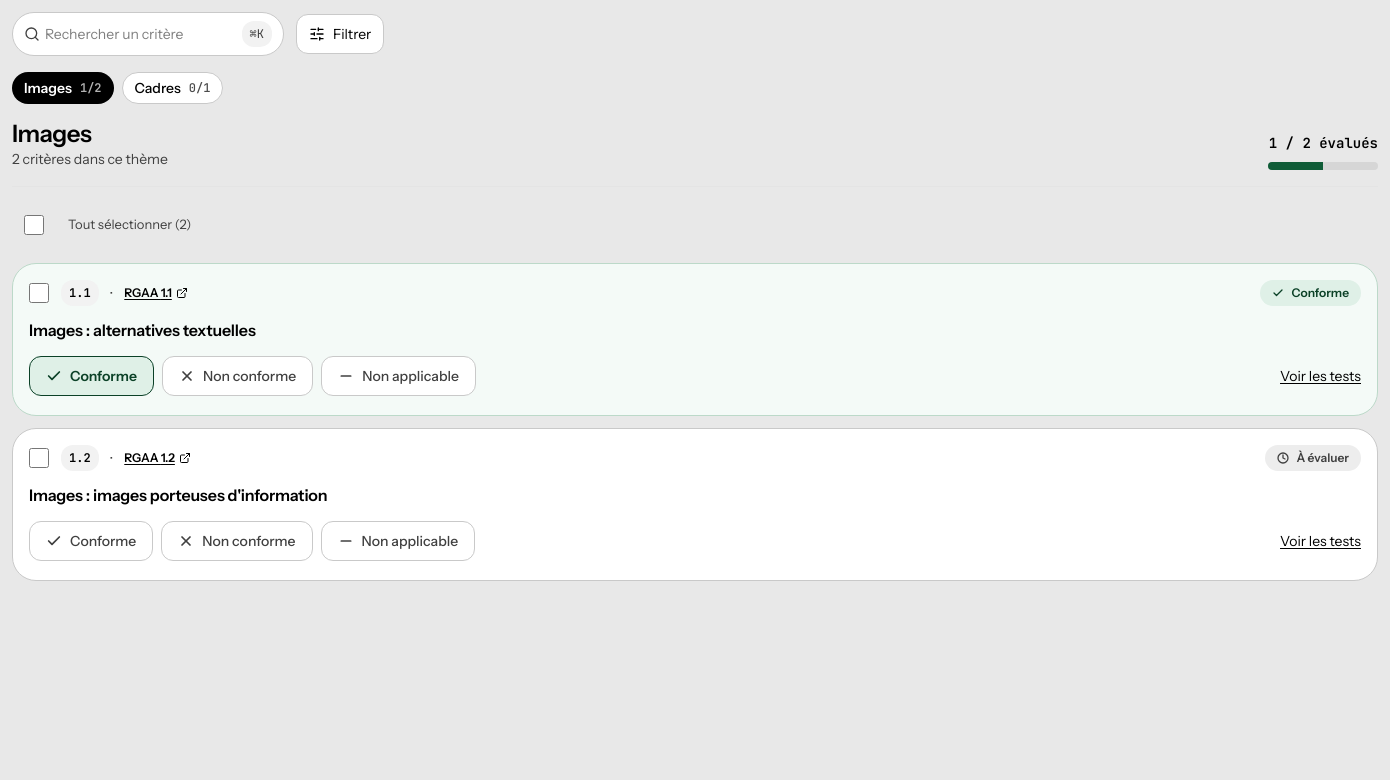
AuditScreen › affiche la barre d'actions groupées quand on sélectionne un critère
The width and height of the screenshot is (1390, 780).
Click the checkbox named "Sélectionner le critère 1.1": {"x": 39, "y": 293} [29, 283, 49, 303]
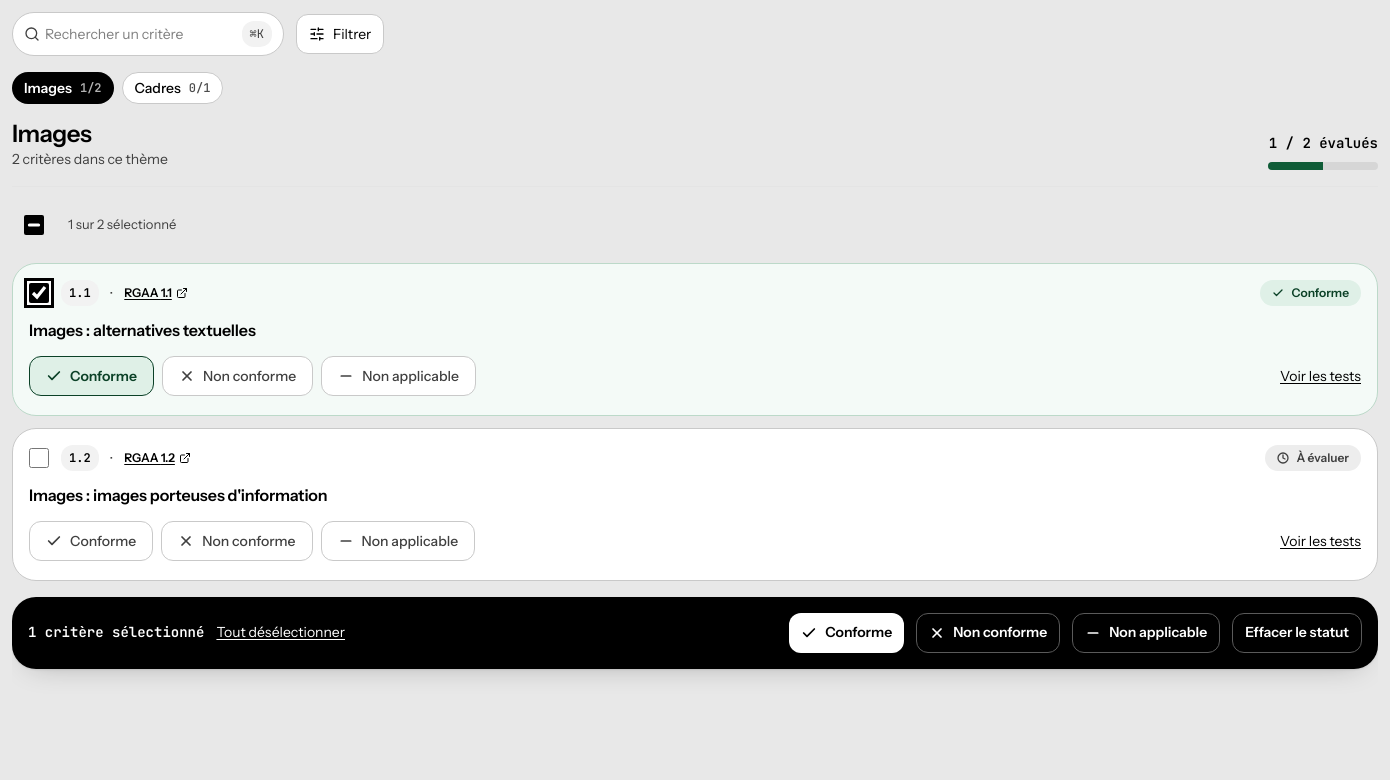
Expected: the text "1 critère sélectionné" is shown, [28, 622, 204, 643]
